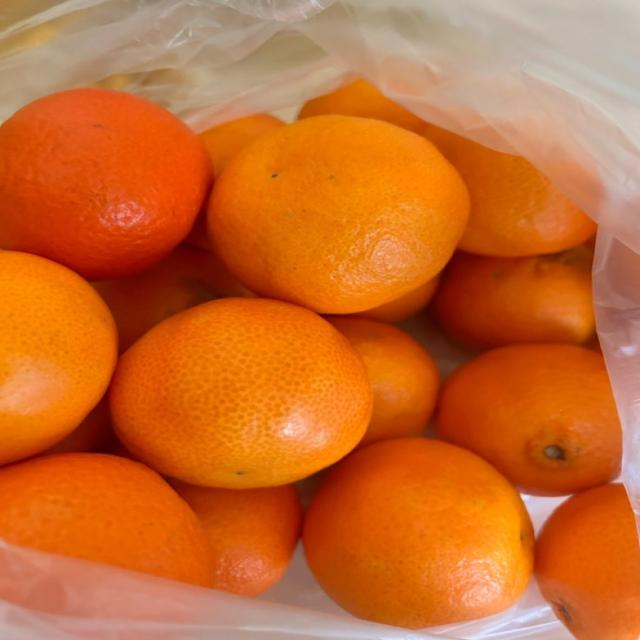orange: (209, 116, 468, 313), (111, 299, 372, 488), (303, 438, 533, 628), (0, 89, 212, 279), (0, 453, 212, 586), (437, 344, 621, 495), (0, 251, 117, 463), (424, 126, 596, 257), (434, 246, 595, 349), (94, 246, 250, 351), (536, 485, 639, 639), (175, 483, 301, 596), (328, 317, 439, 444), (299, 79, 425, 132), (200, 114, 283, 176), (43, 397, 114, 454), (354, 276, 439, 322)
